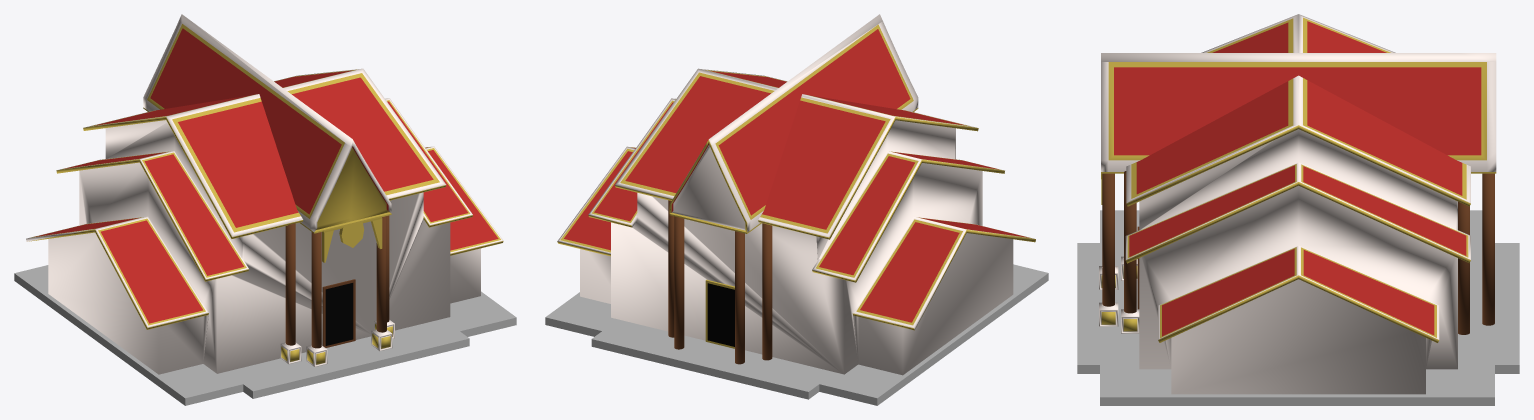
File: Wat Chiang Man.fbx
3 renders of one model, left to right at view 1: azimuth 30°, elevation 25°; view 2: azimuth 150°, elevation 25°; view 3: azimuth 270°, elevation 25°, orthographic. The views are drawn at different scales.
Visible parts, largest first — view 1: ลูกบาศก์.003; view 2: ลูกบาศก์.003; view 3: ลูกบาศก์.003.
Boxes of the visible parts, x1=… form: ลูกบาศก์.003: x1=14, y1=14, x2=516, y2=405; ลูกบาศก์.003: x1=545, y1=14, x2=1048, y2=405; ลูกบาศก์.003: x1=1077, y1=14, x2=1519, y2=405.
Bounding box in the file's own units: 953 × 577 × 888.
